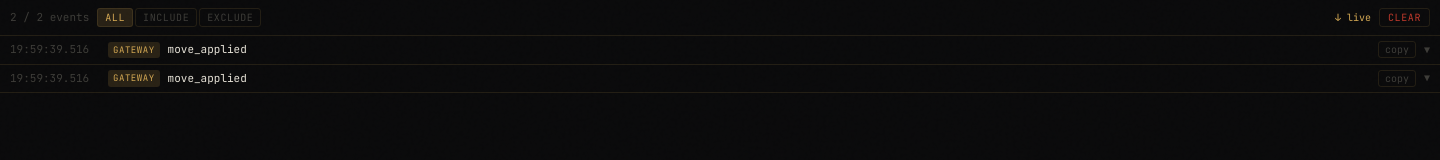
Scenario: WsDevtools › clear button removes all events
Click the button with test id "clear-btn" at (1404, 18), box [1379, 8, 1430, 27]
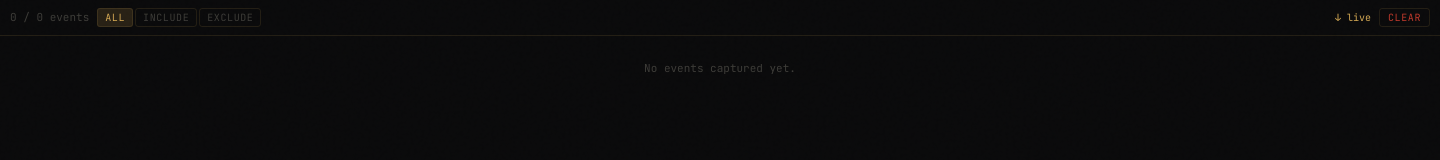
Now the text "No events captured yet." is shown, box [644, 61, 796, 75]
